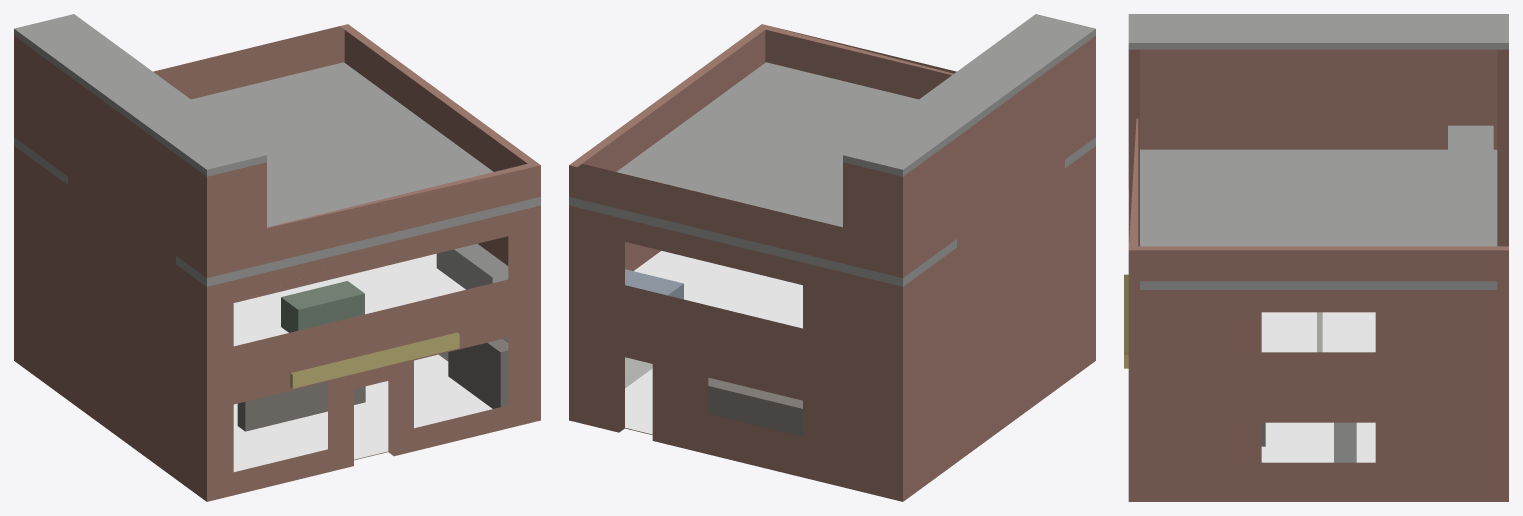
The model's file is townhouse.gaps-v1.lod0.glb.
The picture shows the model from 3 angles, left to right: view 1: azimuth 30°, elevation 25°; view 2: azimuth 150°, elevation 25°; view 3: azimuth 270°, elevation 25°; orthographic projection.
Visible parts, largest first — view 1: townhouse; view 2: townhouse; view 3: townhouse.
Part boxes in pixels (x1=…): townhouse: x1=14, y1=14, x2=540, y2=501; townhouse: x1=569, y1=14, x2=1095, y2=501; townhouse: x1=1124, y1=14, x2=1508, y2=501.
Size of the model in its own units: 10 by 9.5 by 10.12.
